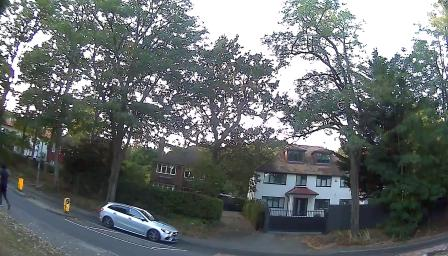Cars: (97, 183, 183, 249)
